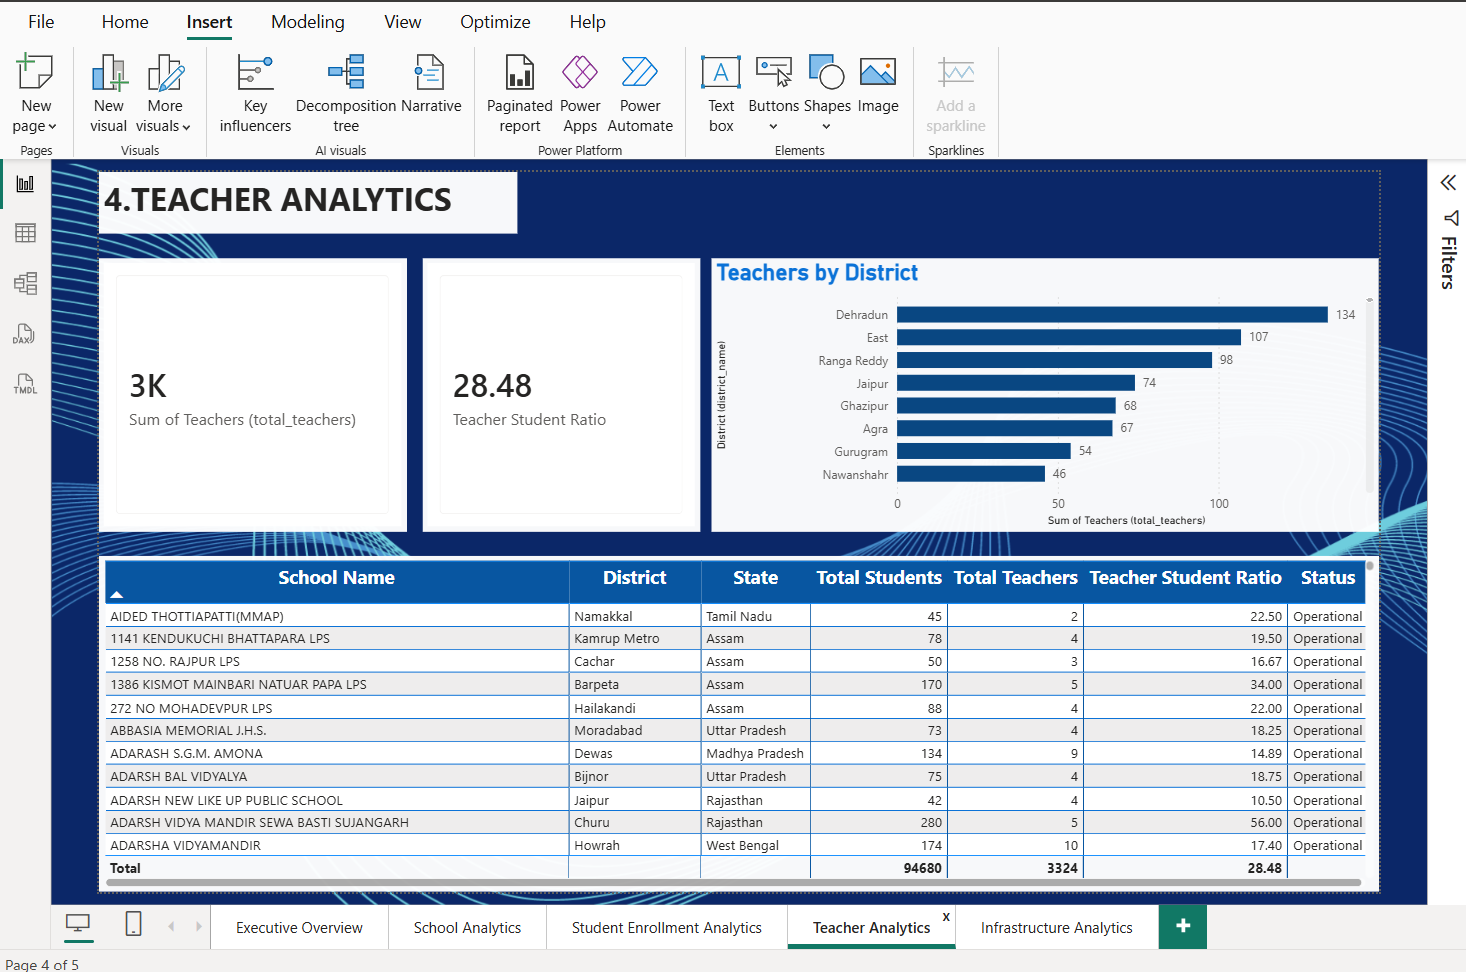

The dashboard page shown, as its layout file describes it:
{"tool":"powerbi","page":{"name":"Teacher Analytics","canvas":[1280,720],"ordinal":3},"visuals":[{"type":"clusteredBarChart","title":"Teachers by District","fields":{"Y":["Sum(Basic Details of Schools_Sample_Data.Teachers (total_teachers))"],"Category":["Basic Details of Schools_Sample_Data.District (district_name)"]},"box":[612.5,86.2,667.5,273.8],"z":0},{"type":"cardVisual","fields":{"Data":["Basic Details of Schools_Sample_Data.Teacher Student Ratio"]},"box":[323.8,86.2,277.5,273.8],"z":1000},{"type":"tableEx","fields":{"Values":["Basic Details of Schools_Sample_Data.School Name (school_name)","Basic Details of Schools_Sample_Data.District (district_name)","Basic Details of Schools_Sample_Data.State (state_name)","Sum(Basic Details of Schools_Sample_Data.Total Students (class_with_pre_primary_students))","Sum(Basic Details of Schools_Sample_Data.Teachers (total_teachers))","Basic Details of Schools_Sample_Data.Teacher Student Ratio","Basic Details of Schools_Sample_Data.Status (status)"]},"box":[0,383.8,1280,336.2],"z":2000},{"type":"textbox","box":[0,0,418.8,61.2],"z":3000},{"type":"cardVisual","fields":{"Data":["Sum(Basic Details of Schools_Sample_Data.Teachers (total_teachers))"]},"box":[0,86.7,307.8,273.3],"z":4000}]}

Visuals, with their boxes on the page's 1280x720 design canvas (x1, y1, x2, y2). These are canvas units, not pixel positions in the 1466x972 screenshot, which may show the page scaled, cropped or inside an application window:
"Teachers by District" clusteredBarChart: 612/86/1280/360
cardVisual - Basic Details of Schools_Sample_Data.Teacher Student Ratio: 324/86/601/360
tableEx - Basic Details of Schools_Sample_Data.School Name (school_name) x Basic Details of Schools_Sample_Data.District (district_name): 0/384/1280/720
textbox: 0/0/419/61
cardVisual - Sum(Basic Details of Schools_Sample_Data.Teachers (total_teachers)): 0/87/308/360
